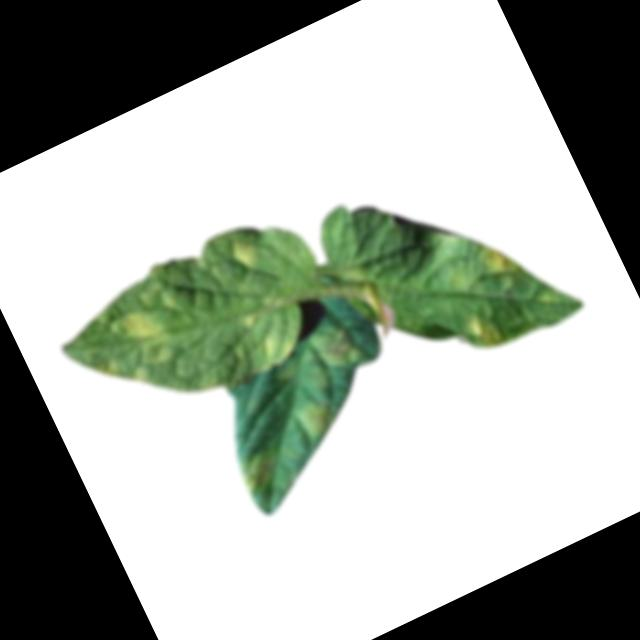Leaf_Mold: (309, 313, 371, 376), (232, 442, 292, 497), (113, 296, 172, 349), (293, 393, 342, 443), (461, 306, 509, 356), (477, 239, 520, 283), (224, 231, 264, 275), (257, 327, 298, 366), (237, 306, 264, 332)
